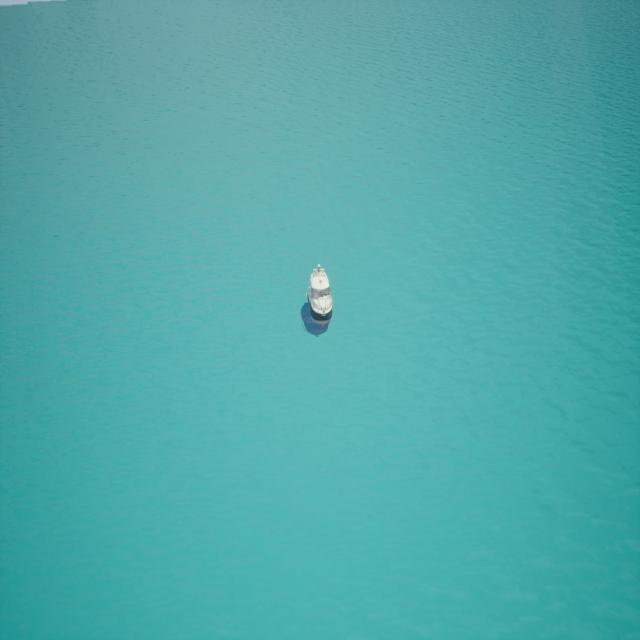ship: (303, 256, 335, 334)
